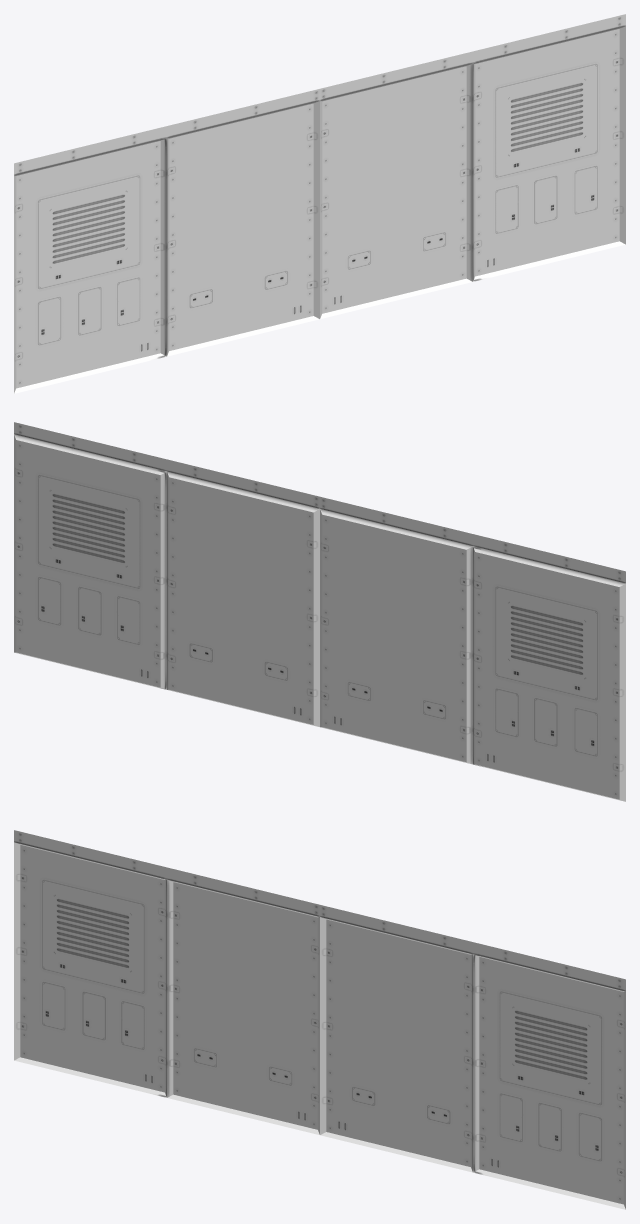
Rendered from GymWallMid.fbx.
The picture shows the model from 3 angles, top to bottom: view 1: azimuth 30°, elevation 25°; view 2: azimuth 150°, elevation 25°; view 3: azimuth 330°, elevation 25°; orthographic projection.
Parts seen in each view (by area): view 1: GymWallMid001; view 2: GymWallMid001; view 3: GymWallMid001.
Part boxes in pixels (x1,y1,x2,y2): GymWallMid001: (14, 14, 625, 393); GymWallMid001: (14, 422, 625, 801); GymWallMid001: (14, 830, 625, 1209).
Bounding box in the file's own units: 1298 × 467 × 7.95.
